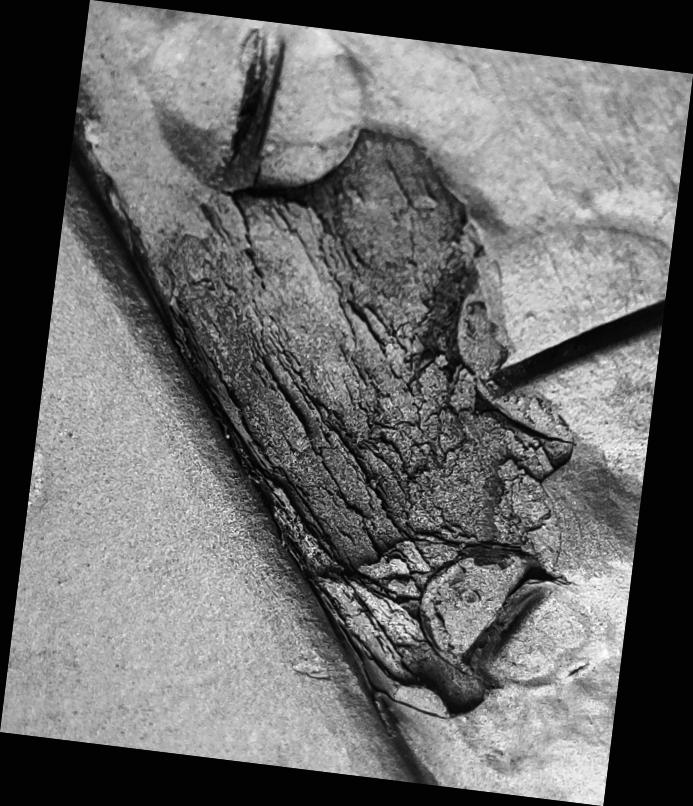paint-off: (1, 1, 693, 806)
